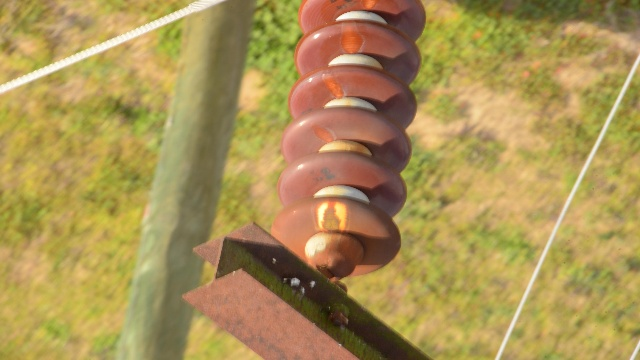insulator_unspecified: (271, 0, 427, 274)
pollution_flashover_local: (318, 199, 348, 238), (338, 17, 368, 56), (321, 68, 344, 104), (311, 125, 334, 147)
